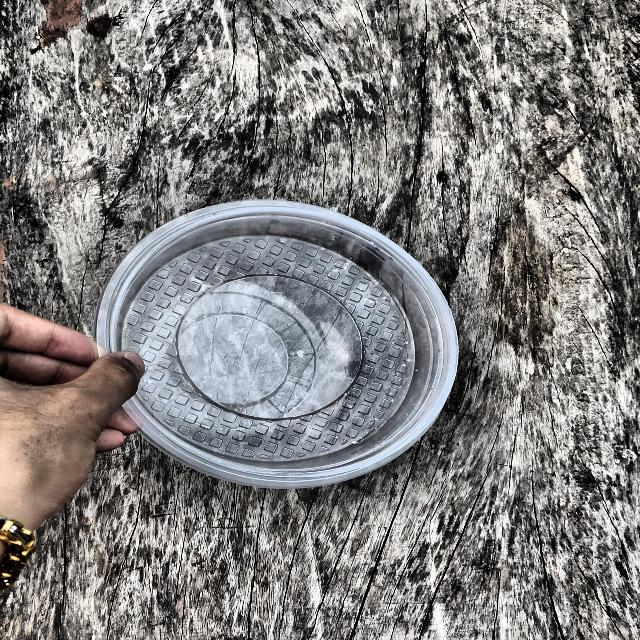plastic container: (86, 188, 495, 510)
